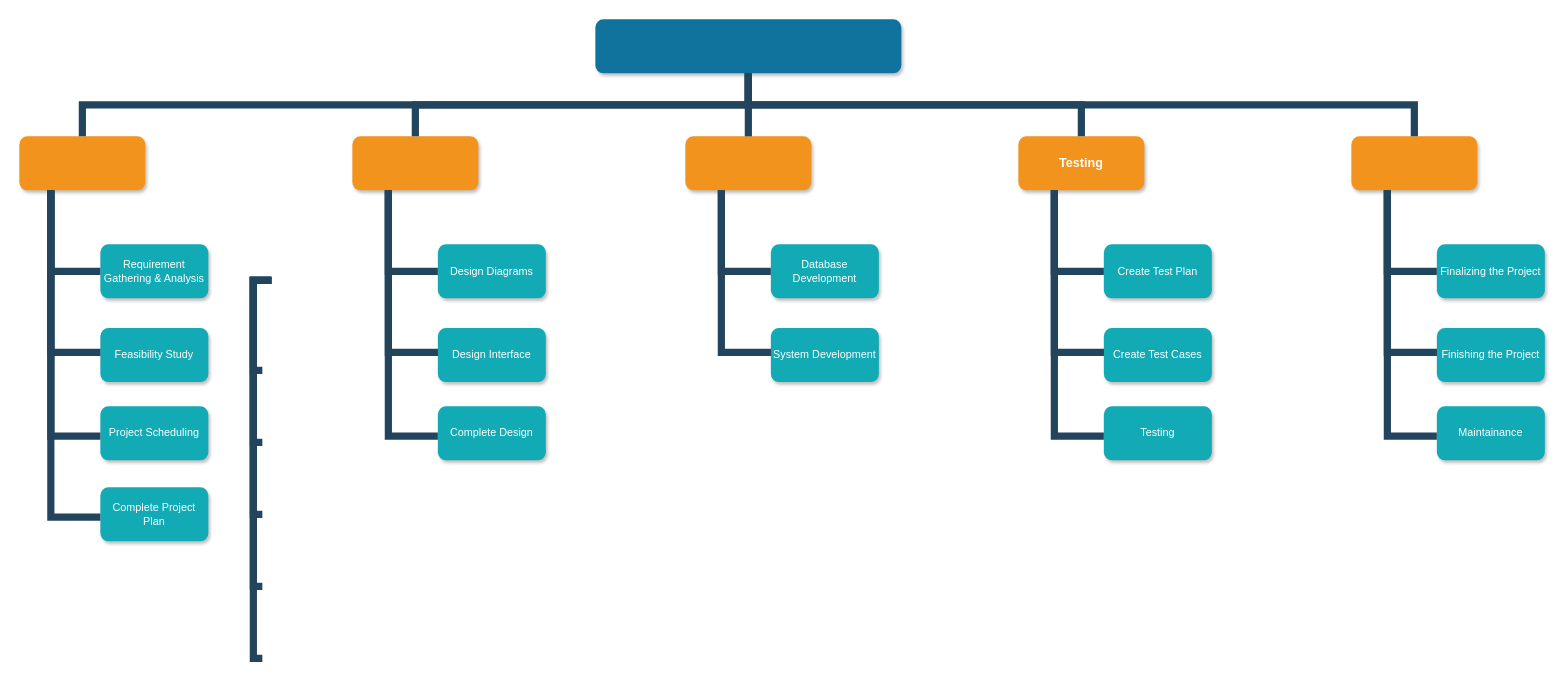
Image size: 1565x678. Some labels were removed from this diagram. Each missing label, with the centre of its shape:
Designing: (415,164)
Development: (748,164)
Food Recipe Website: (748,47)
Implementation: (1414,164)
Planning: (82,164)
